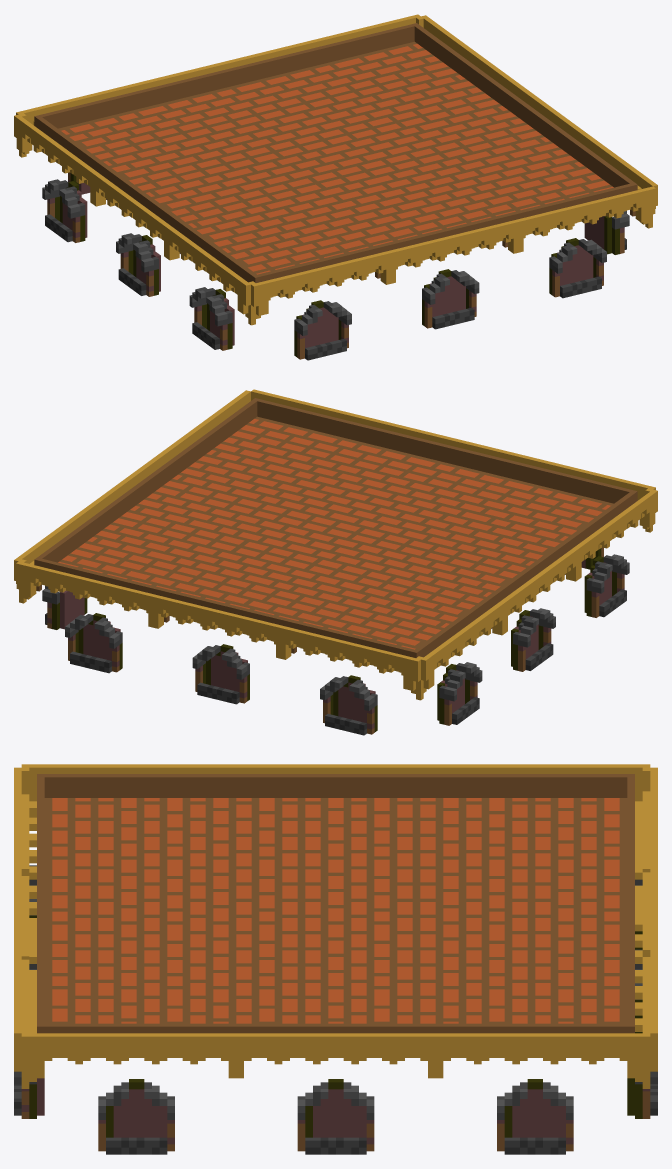
File: archero-4.obj
3 renders of one model, top to bottom at view 1: azimuth 30°, elevation 25°; view 2: azimuth 150°, elevation 25°; view 3: azimuth 270°, elevation 25°, orthographic. The views are drawn at different scales.
Size of the model in its own units: 8.4 by 1.7 by 8.4.
1 material, 1 textured.
